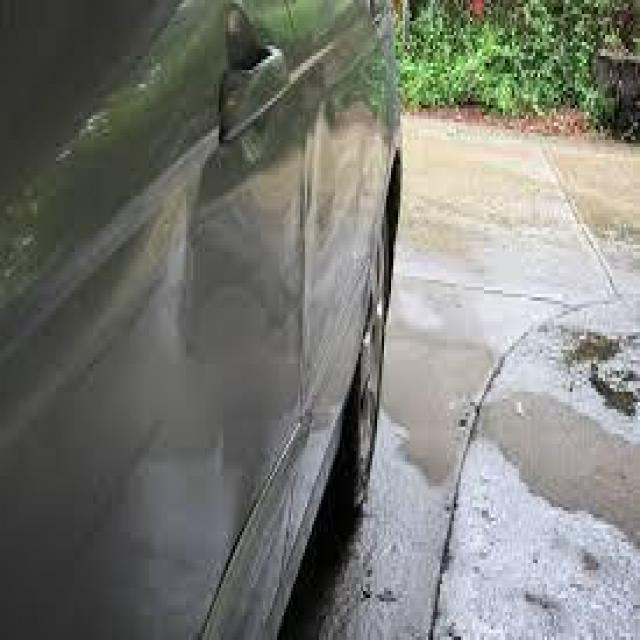damaged: (172, 143, 261, 528)
